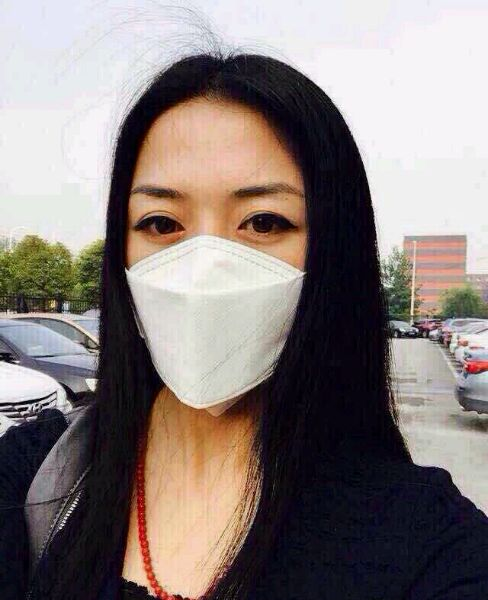face_mask: (122, 100, 309, 404)
